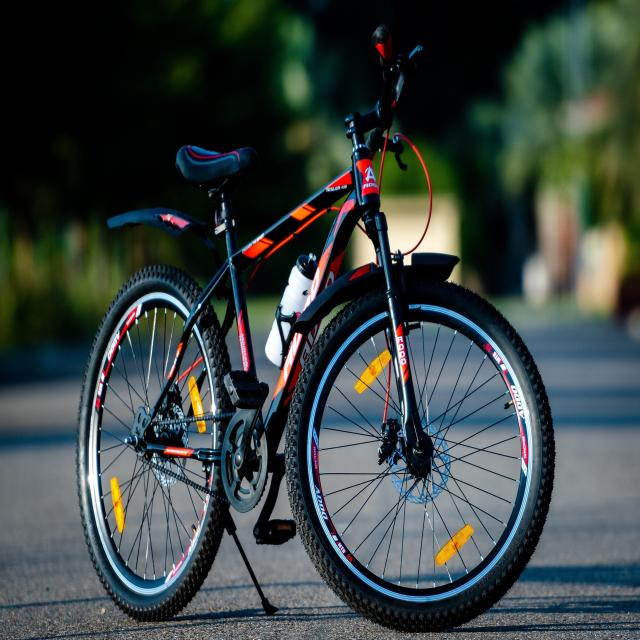bicycle: (78, 26, 555, 632)
